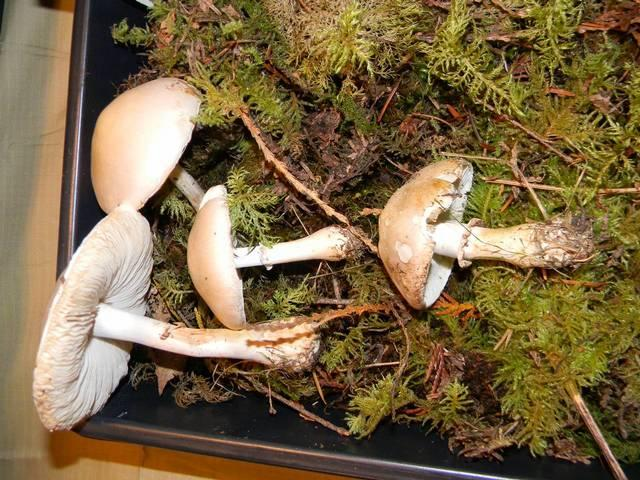Non-edible Mushroom: (26, 69, 369, 440), (376, 157, 595, 310)
